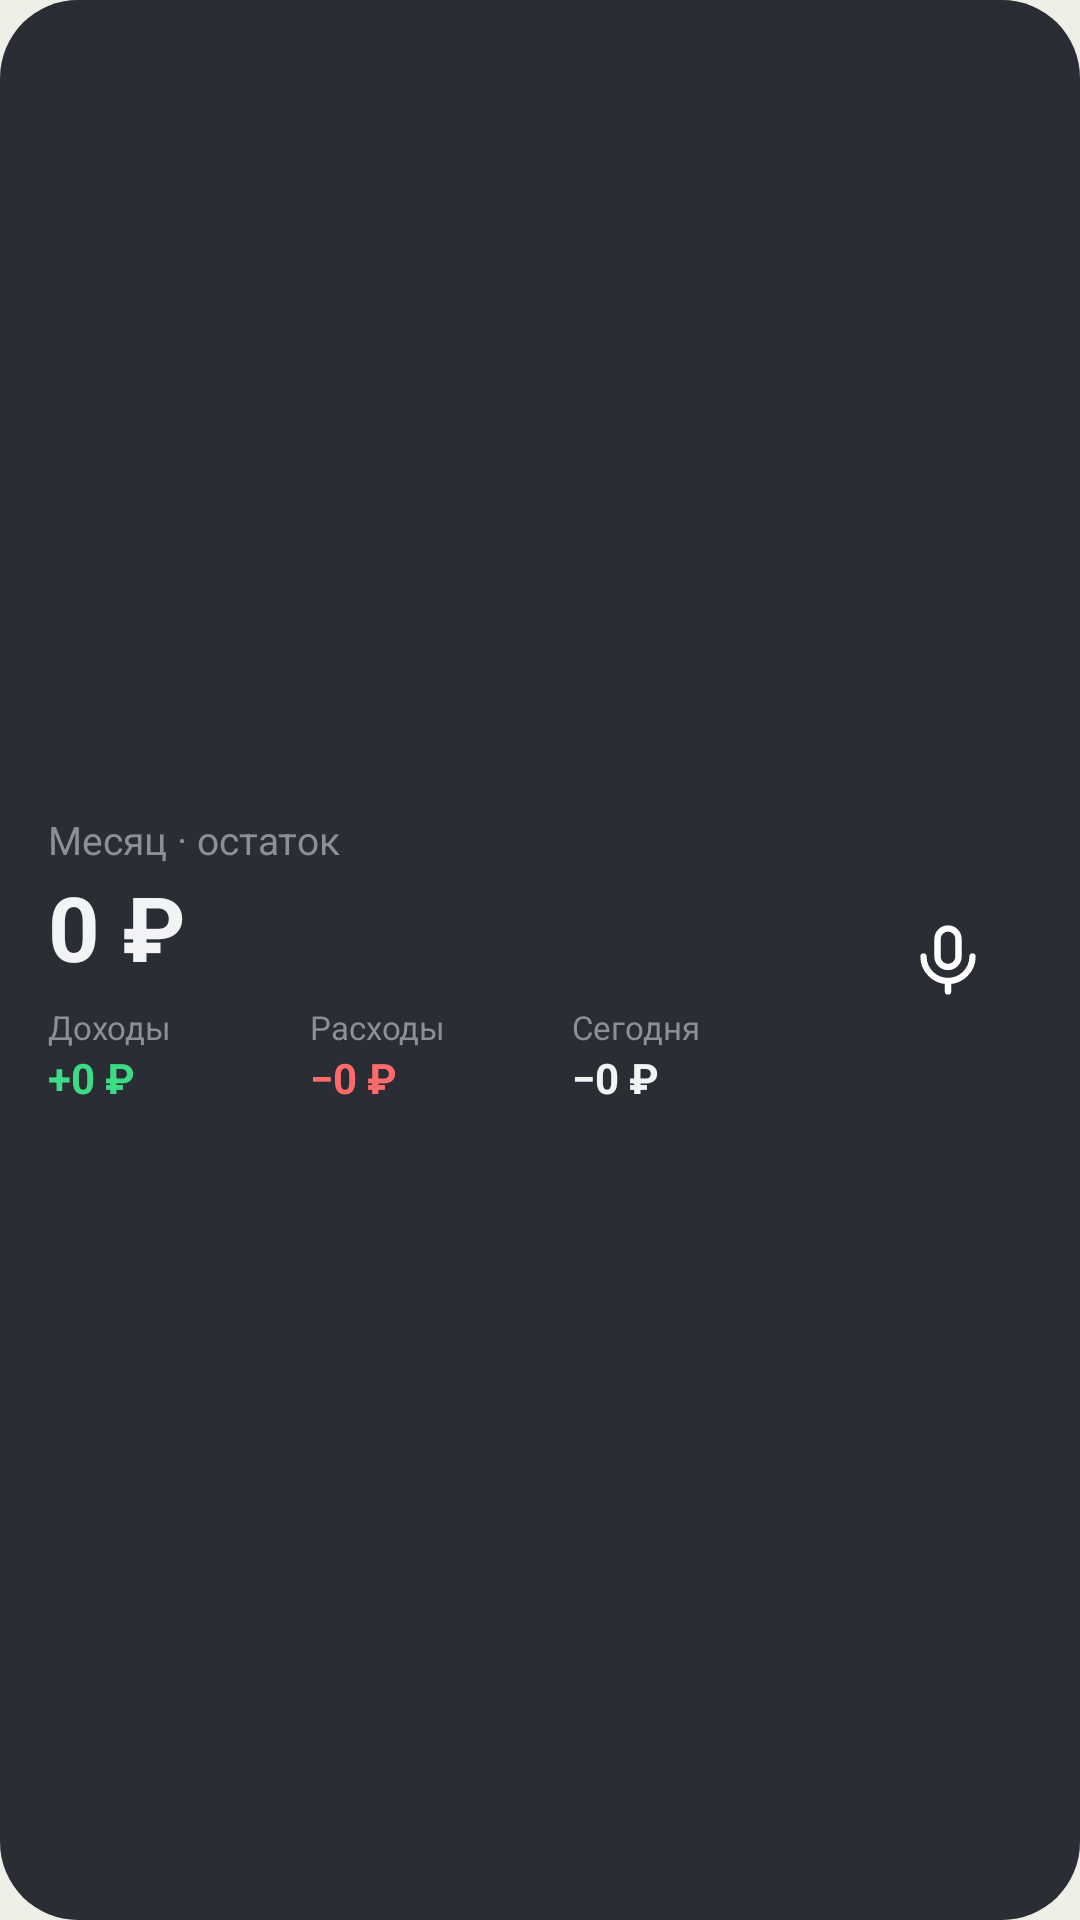

Icons on this 1080 × 1920 Android screen, each with the point to tap as (x=x, y=y):
Сказать вслух: (x=948, y=960)
